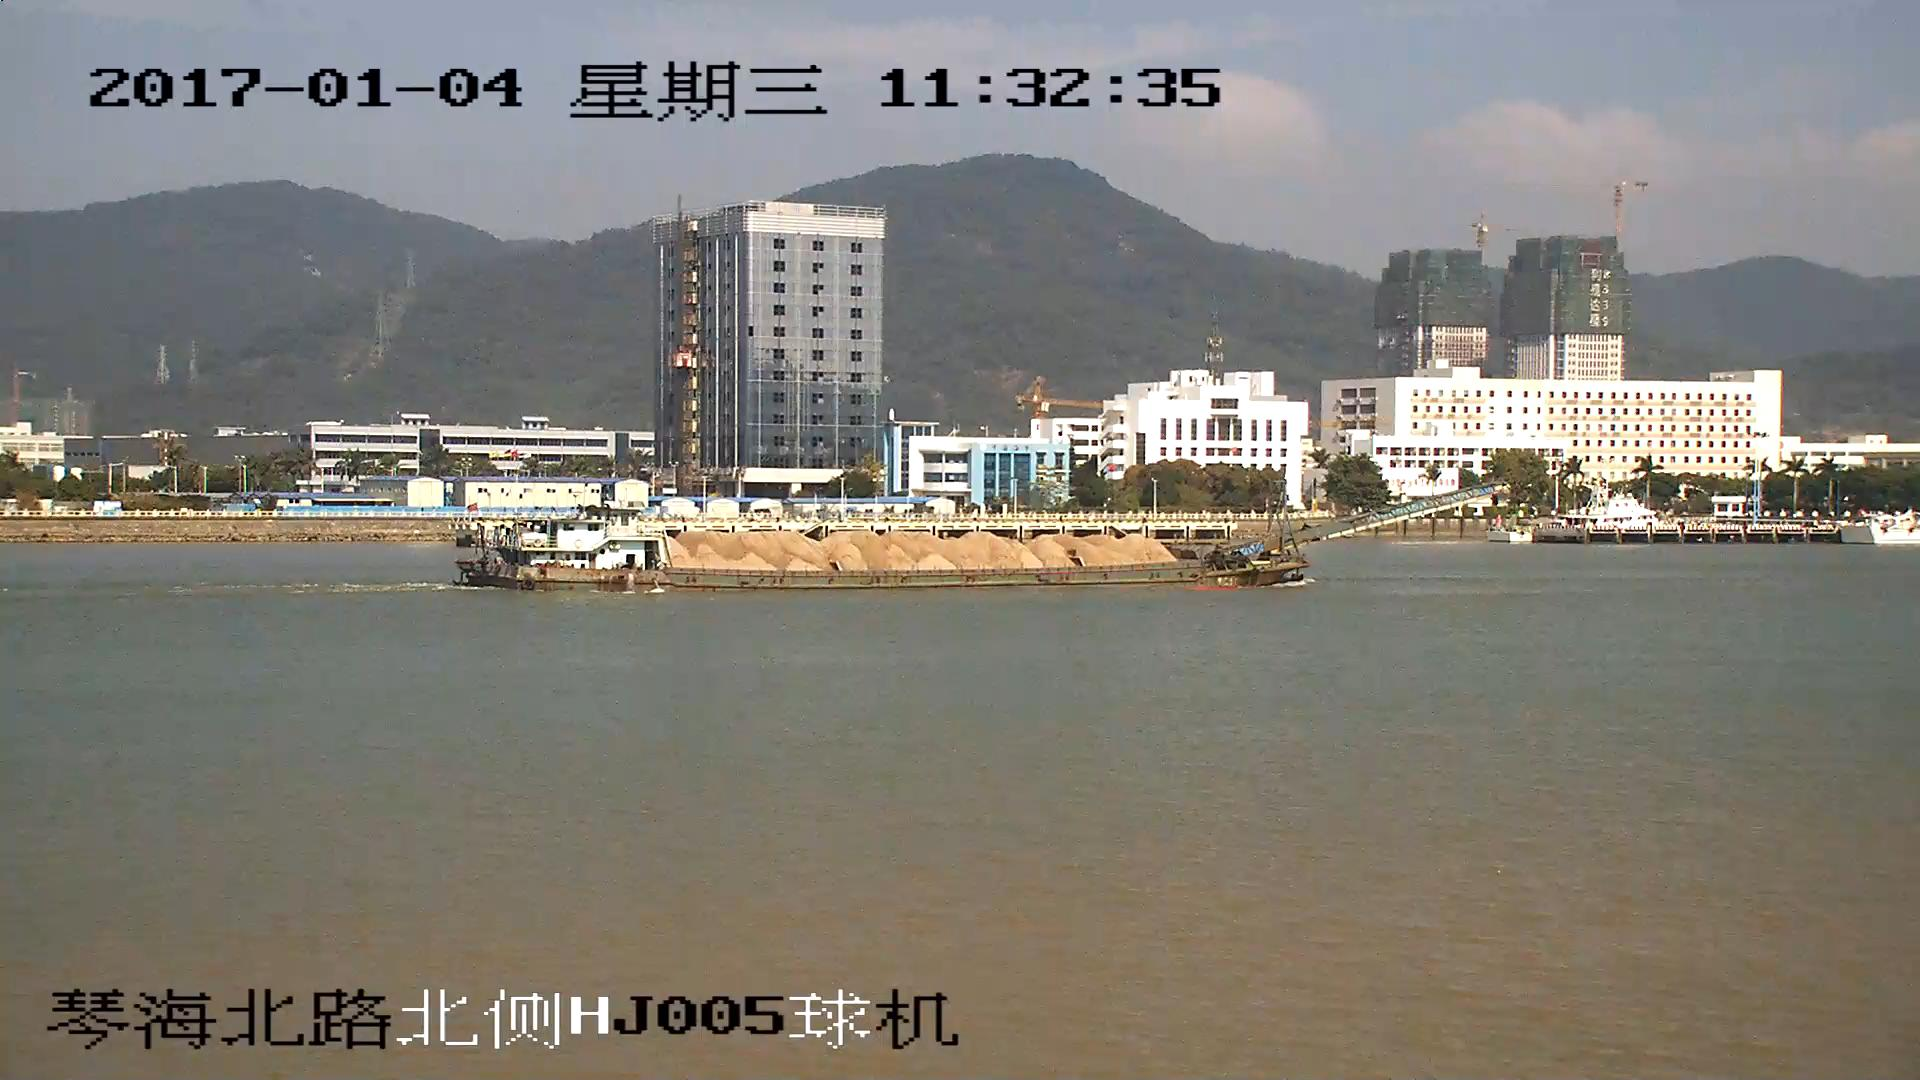ore carrier: (457, 481, 1500, 595)
